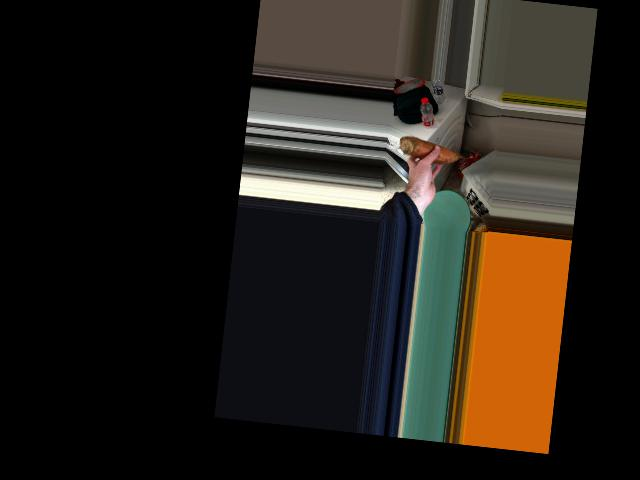sweet_potato: (397, 140, 462, 163)
